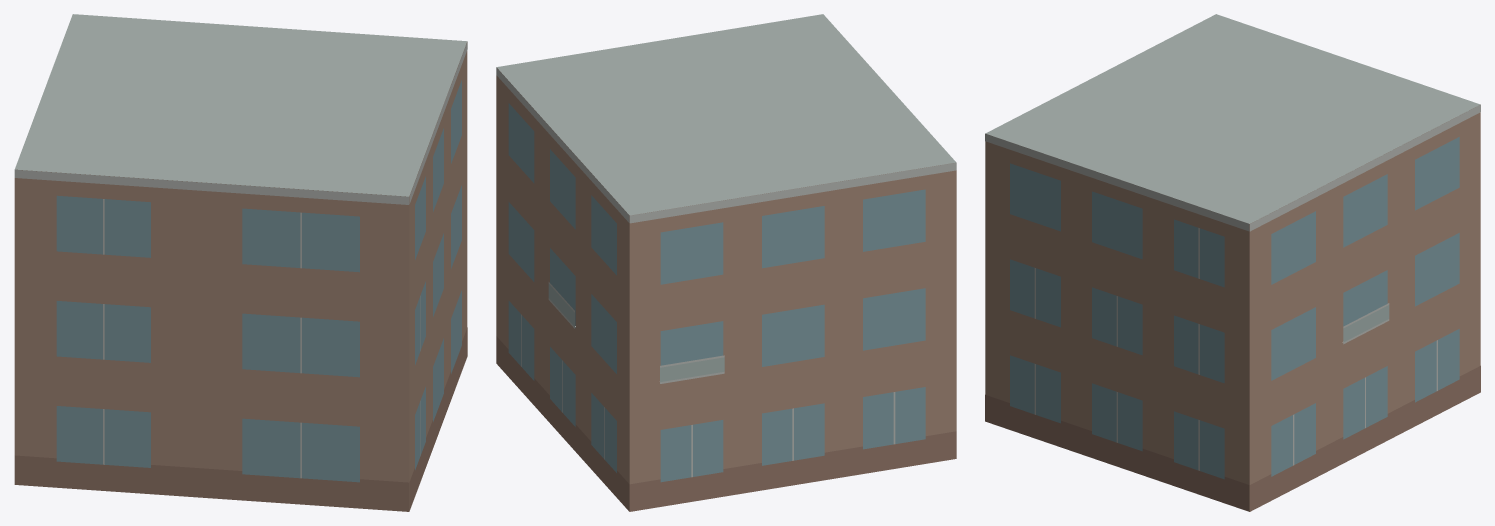
The model's file is survey-upis-32679197.glb.
3 views of the same model, side by side, from view 1: azimuth 30°, elevation 25°; view 2: azimuth 150°, elevation 25°; view 3: azimuth 270°, elevation 25° (orthographic). The views are drawn at different scales.
Visible parts, largest first — view 1: survey-upis-32679197.tmp; view 2: survey-upis-32679197.tmp; view 3: survey-upis-32679197.tmp.
Part boxes in pixels (<box>): survey-upis-32679197.tmp: <box>14,14,467,511</box>; survey-upis-32679197.tmp: <box>496,14,956,511</box>; survey-upis-32679197.tmp: <box>985,14,1480,511</box>.
Bounding box in the file's own units: 14.32 × 9.15 × 14.28.
